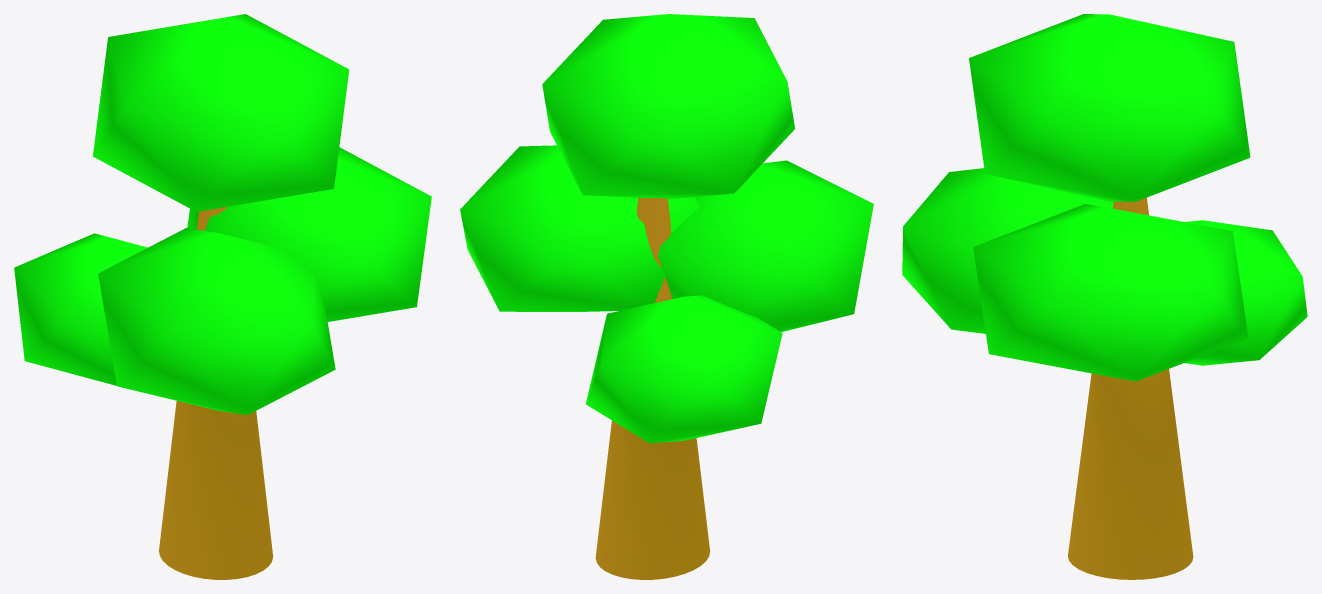
The model's file is treethree6.gltf.
3 renders of one model, left to right at view 1: azimuth 30°, elevation 25°; view 2: azimuth 150°, elevation 25°; view 3: azimuth 270°, elevation 25°, orthographic.
Visible parts, largest first — view 1: Icosphere.005_0, Icosphere.005_1; view 2: Icosphere.005_0, Icosphere.005_1; view 3: Icosphere.005_0, Icosphere.005_1.
Boxes of the visible parts, box(x1,y1,x2,y2) form: Icosphere.005_0: box(14, 14, 431, 415); Icosphere.005_1: box(159, 206, 273, 579); Icosphere.005_0: box(460, 14, 873, 443); Icosphere.005_1: box(595, 197, 710, 579); Icosphere.005_0: box(902, 14, 1307, 381); Icosphere.005_1: box(1068, 197, 1193, 579).
Size of the model in its own units: 28.82 by 44.39 by 30.23.
